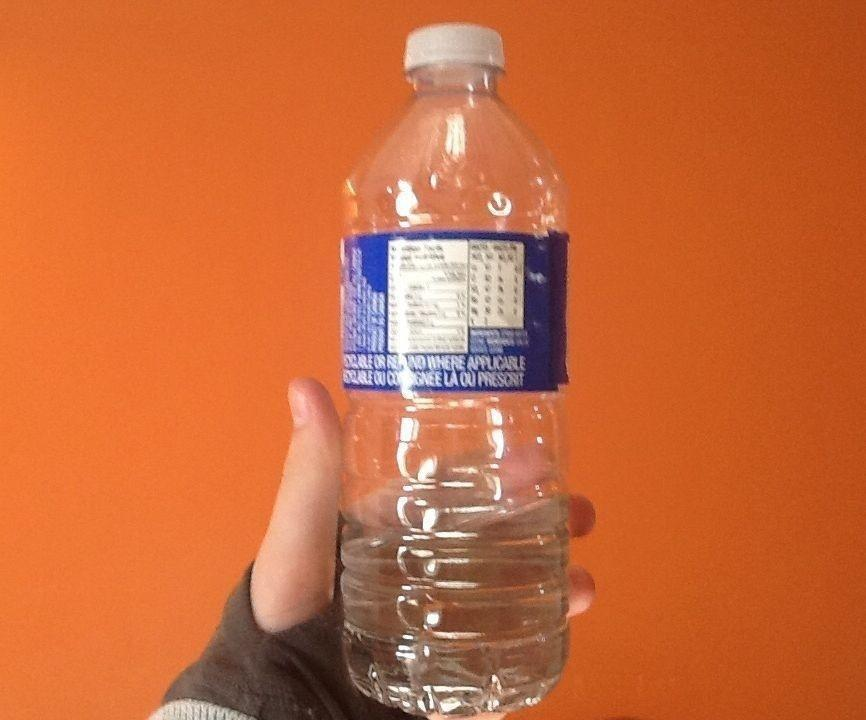bottle-plastic: (330, 17, 579, 719)
